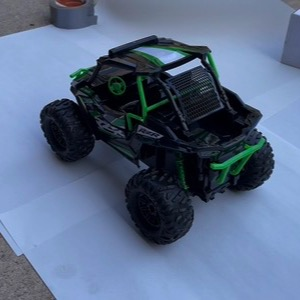polaris: (40, 34, 276, 246)
